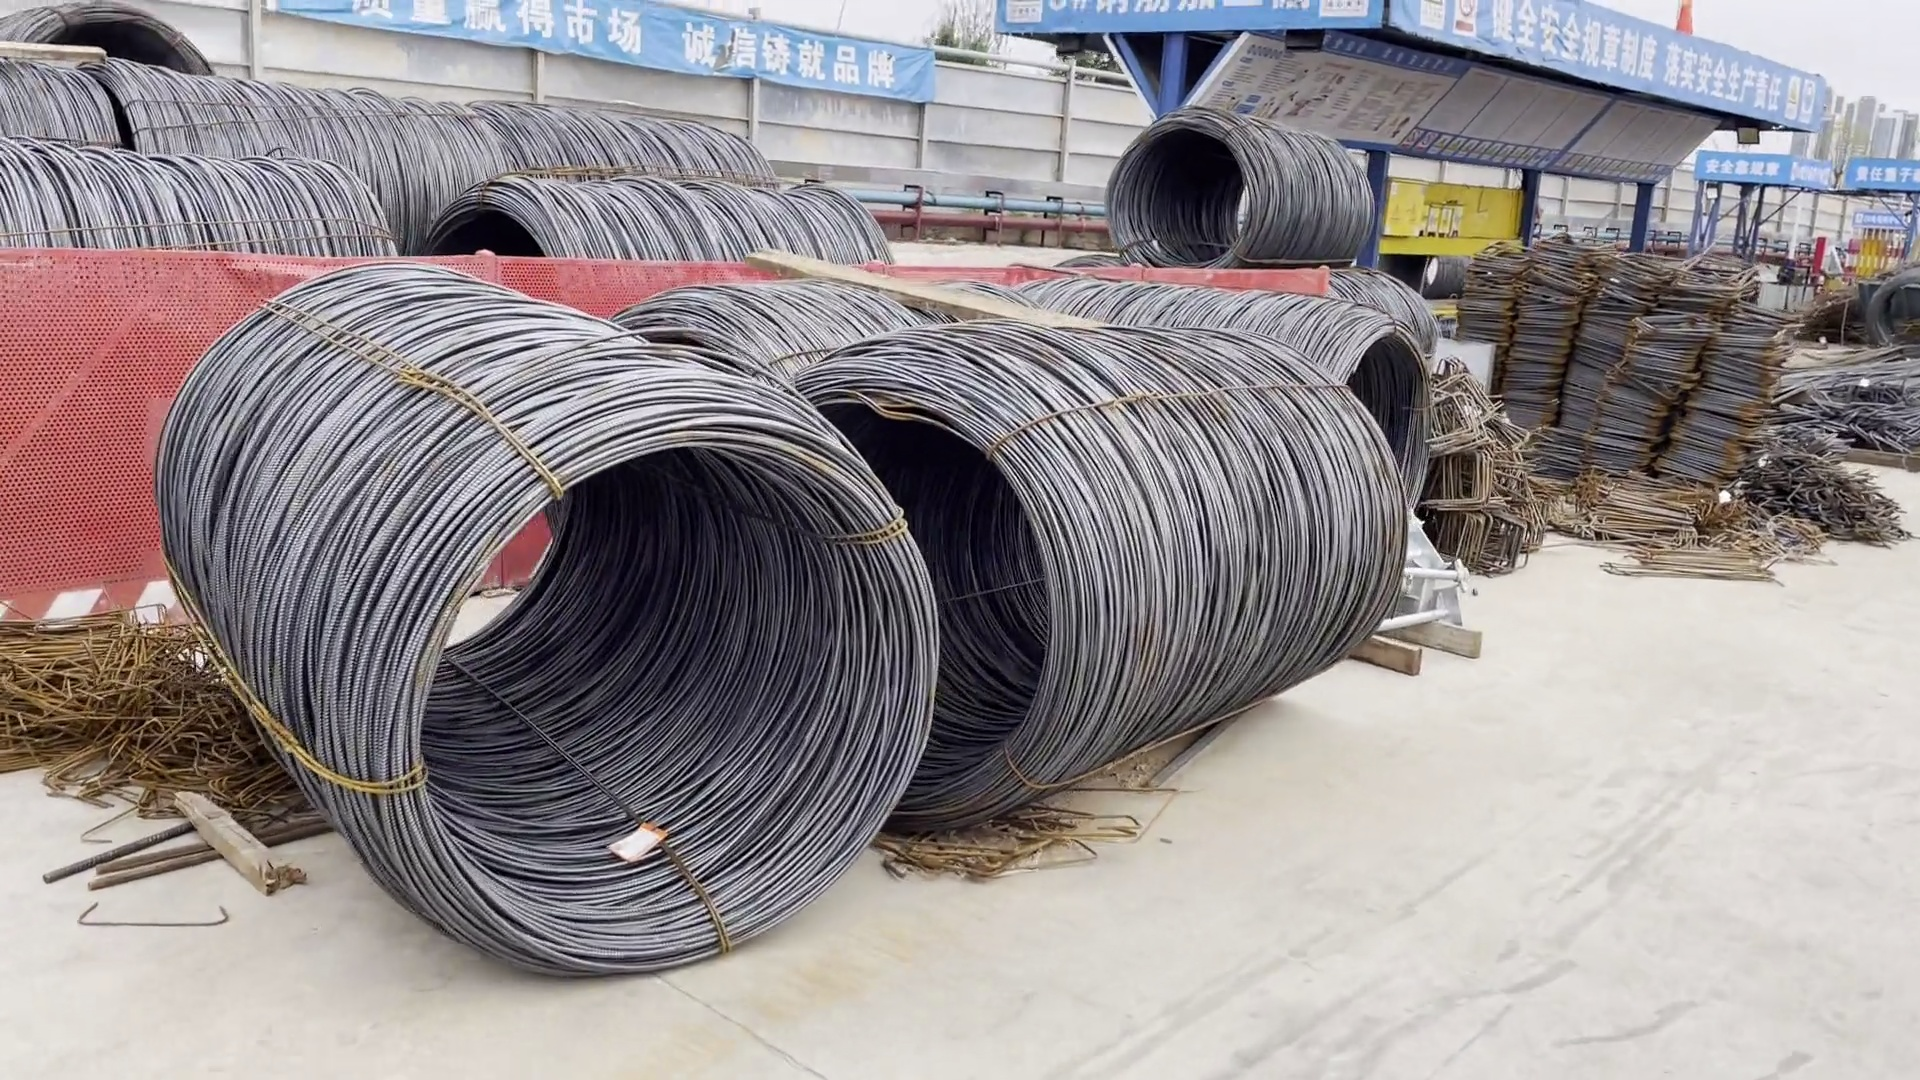ebox: (1375, 178, 1423, 243)
slogan: (353, 1, 899, 91)
